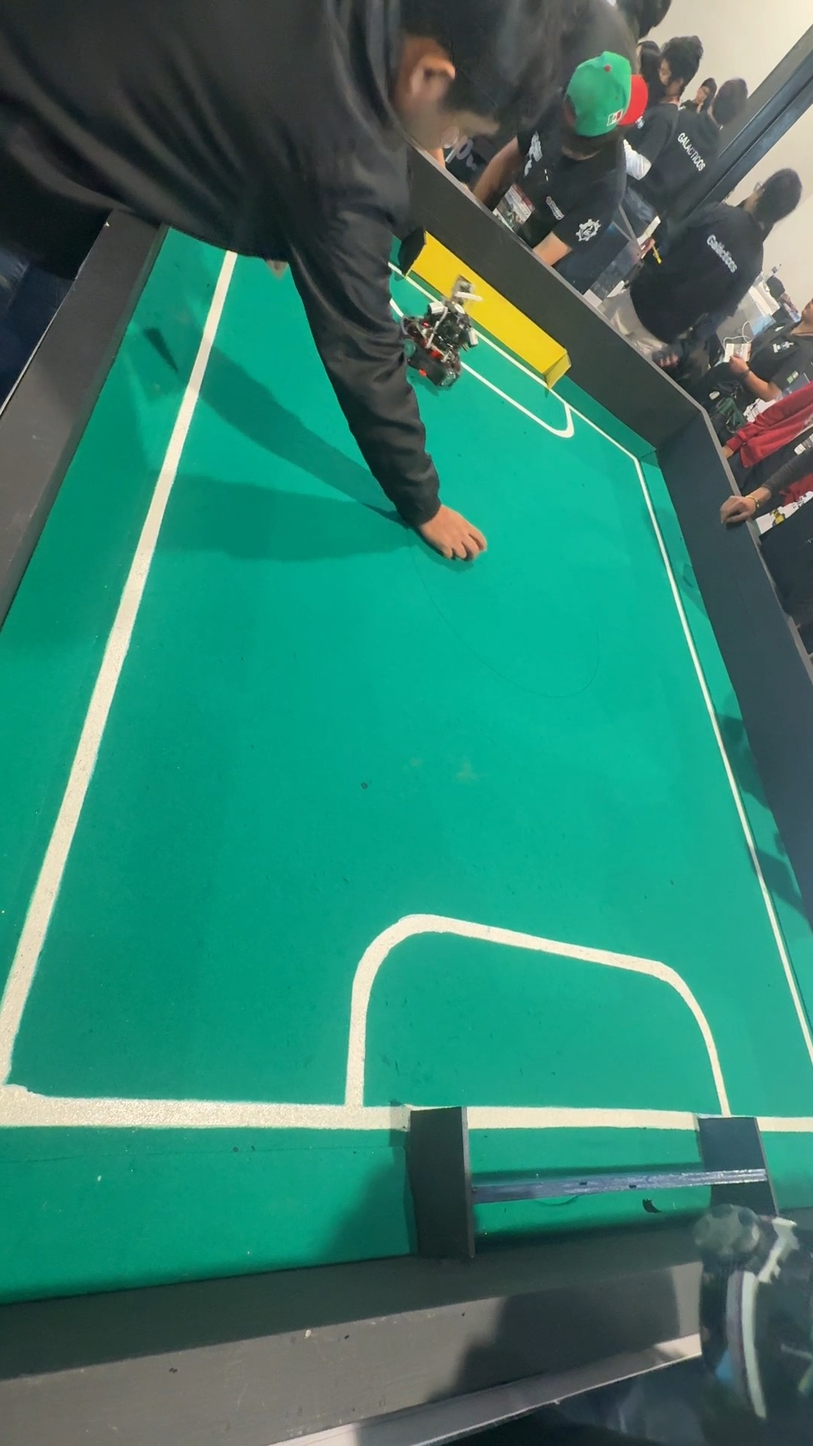Robot: (401, 272, 481, 398)
